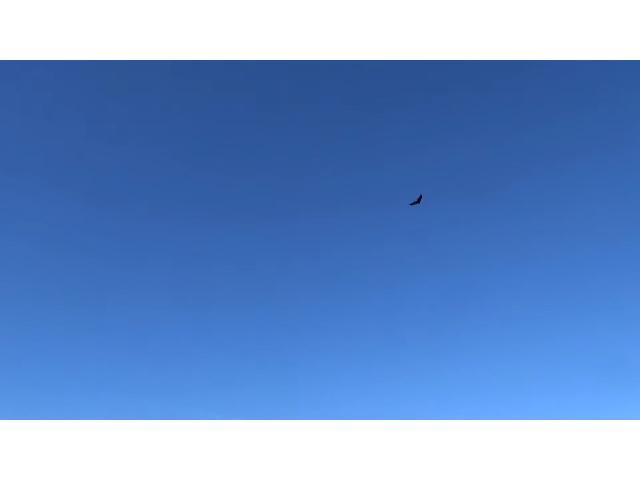Anti-Drone: (403, 190, 429, 211)
